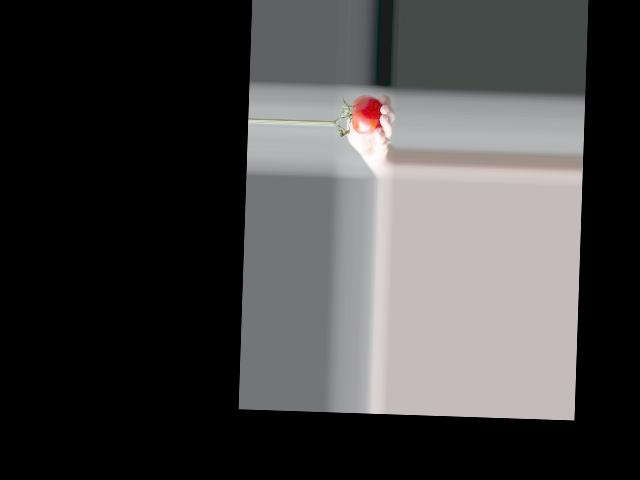tomato: (350, 94, 382, 135)
